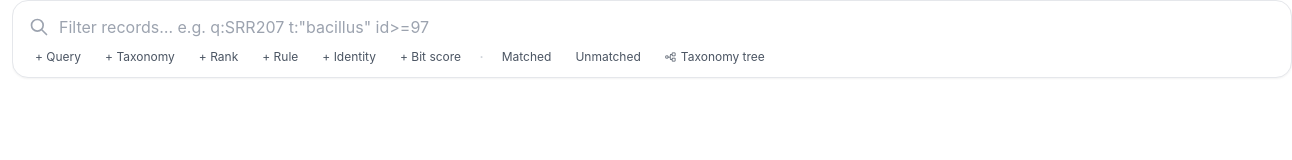
Test: FilterBar value suggestions › Enter without a highlight commits the typed text as before
Type "rule:maj" into the dropdown labelled "Filter records" at (666, 27), box x1=57 y1=13 x2=1275 y2=41
Then press Enter
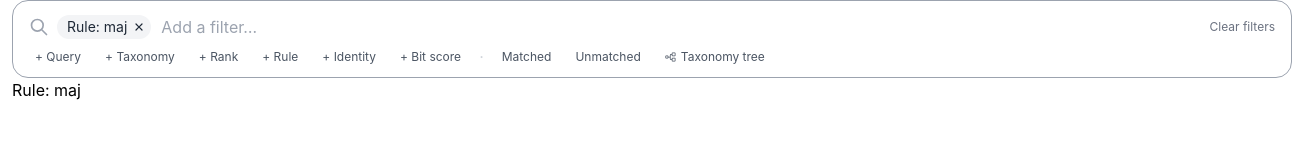
Expected: the element showing "Rule: maj" is shown, x1=57 y1=15 x2=151 y2=39
